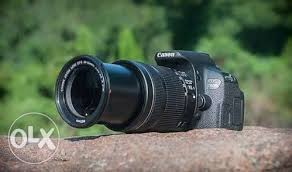camera: (55, 50, 243, 131)
